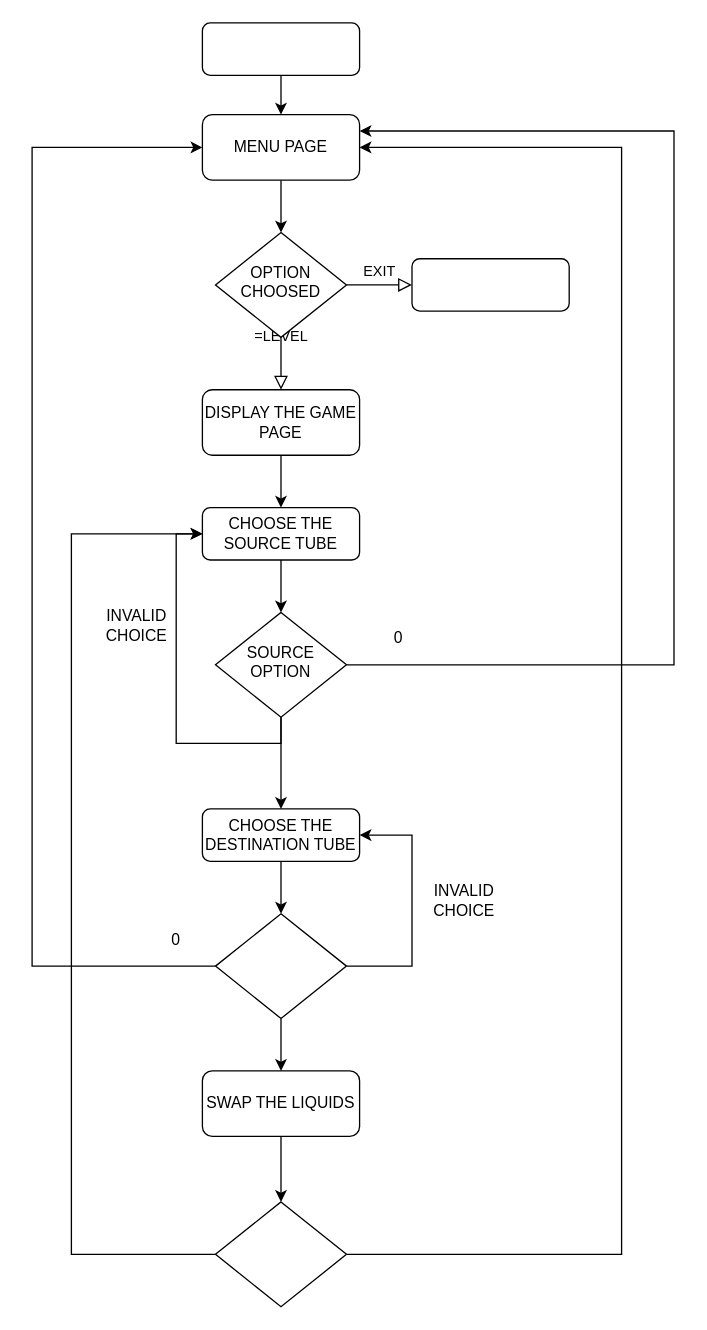
Image size: 707x1330. Some labels were removed from this diagram. The shapes that lost their labels are listed below. From the top down, each one's centre as x and y in pixels, then its label:
At point 280,48: "DISPLAY PAGE(AQUA SORT)".
At point 490,284: "CLEAR SCREEN GAME END".
At point 280,965: "DESTINATION OPTION".
At point 280,1254: "SORTED??".
